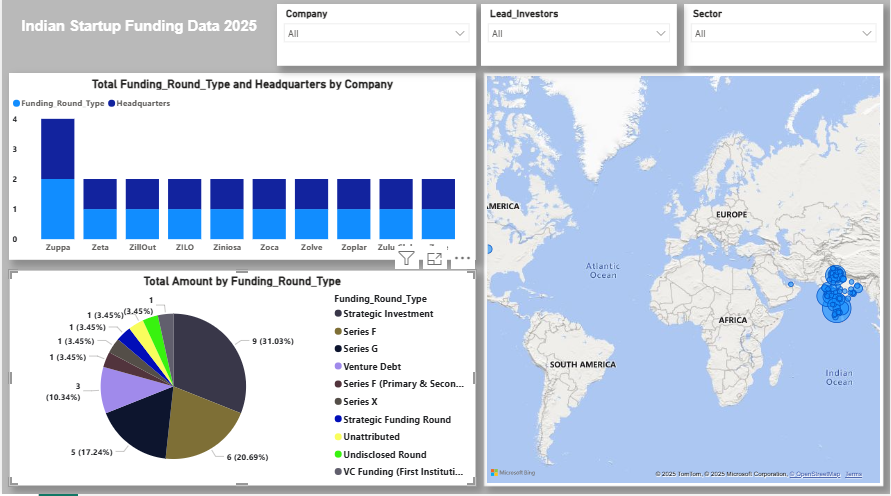

The page's visual inventory and layout, read from the dashboard file:
{"tool":"powerbi","page":{"name":"Page 1","canvas":[1280,720],"ordinal":0},"visuals":[{"type":"slicer","fields":{"Values":["Startup_funding_2025.Sector"]},"box":[982.1,14.4,286.6,89.3],"z":0},{"type":"map","fields":{"Category":["Startup_funding_2025.Headquarters"],"Size":["CountNonNull(Startup_funding_2025.Company)"]},"box":[694.1,113.8,574.6,594.7],"z":1},{"type":"pieChart","title":"Total Amount by Funding_Round_Type","fields":{"Category":["Startup_funding_2025.Funding_Round_Type"],"Y":["CountNonNull(Startup_funding_2025.Amount)"]},"box":[10.1,397.4,672.5,311],"z":2},{"type":"lineStackedColumnComboChart","title":"Total Funding_Round_Type and Headquarters by Company","fields":{"Category":["Startup_funding_2025.Company"],"Y":["CountNonNull(Startup_funding_2025.Funding_Round_Type)","CountNonNull(Startup_funding_2025.Headquarters)"]},"box":[10.1,113.8,672.5,269.3],"z":3},{"type":"slicer","fields":{"Values":["Startup_funding_2025.Company"]},"box":[396,14.4,286.6,89.3],"z":4},{"type":"slicer","fields":{"Values":["Startup_funding_2025.Lead_Investors"]},"box":[689.8,14.4,282.2,89.3],"z":5},{"type":"textbox","box":[10.1,14.4,374.4,89.3],"z":6}]}

Visuals, with their boxes in screenshot pixels (x1, y1, x2, y2), scaled from the page's 1280x720 canvas onto the 891x496 screenshot:
slicer - Startup_funding_2025.Sector: crop(684, 10, 883, 71)
map - Startup_funding_2025.Headquarters x CountNonNull(Startup_funding_2025.Company): crop(483, 78, 883, 488)
"Total Amount by Funding_Round_Type" pieChart: crop(7, 274, 475, 488)
"Total Funding_Round_Type and Headquarters by Company" lineStackedColumnComboChart: crop(7, 78, 475, 264)
slicer - Startup_funding_2025.Company: crop(276, 10, 475, 71)
slicer - Startup_funding_2025.Lead_Investors: crop(480, 10, 677, 71)
textbox: crop(7, 10, 268, 71)
